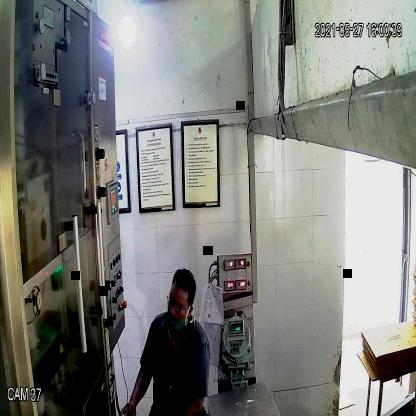goggles: (166, 292, 190, 314)
